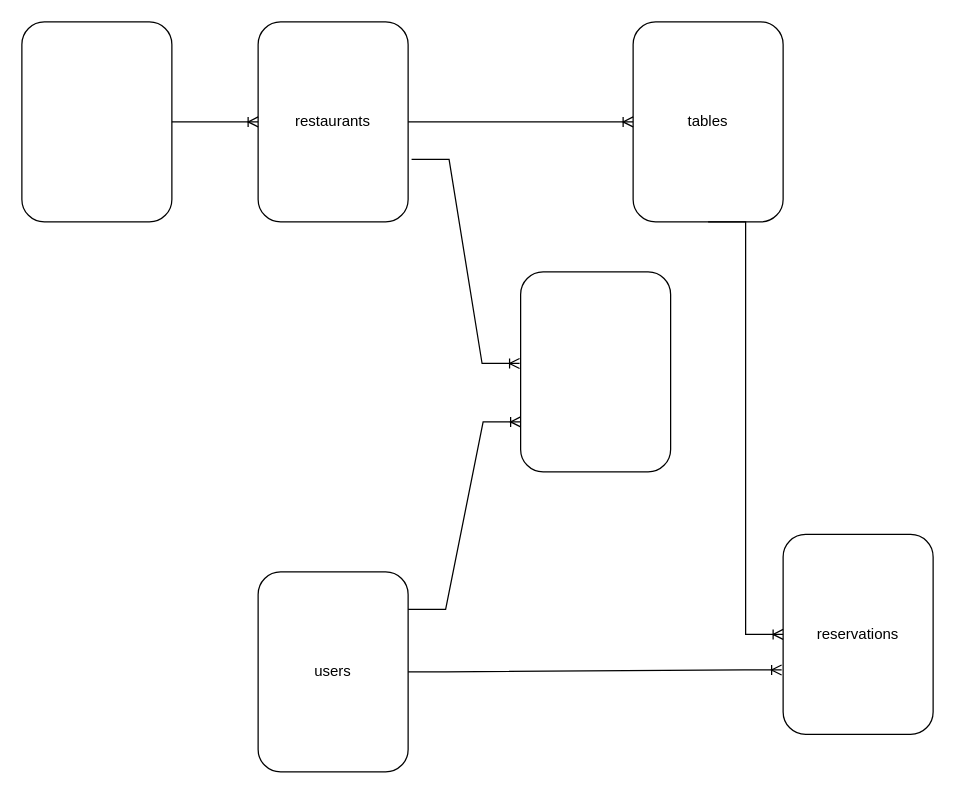
Image size: 955x794. Some labels were removed from this diagram. Here are the shapes that lost their labels. From the top down, the box of each, then its label:
(21, 21, 172, 222): companies
(519, 271, 671, 472): reviews
